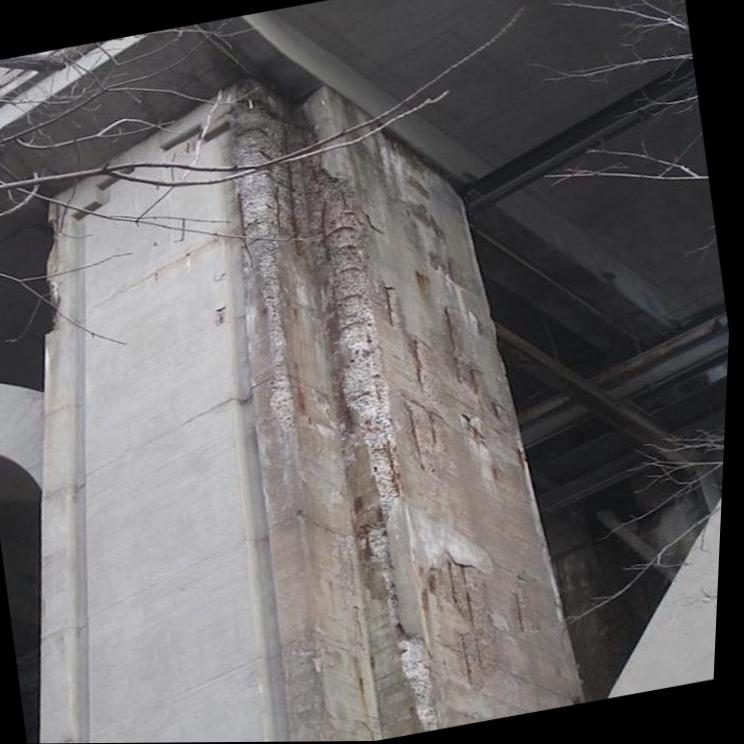crack: (362, 211, 385, 235)
damage: (233, 85, 445, 733), (428, 308, 511, 421), (436, 557, 502, 688), (408, 397, 448, 473), (517, 591, 544, 634), (465, 410, 492, 448), (411, 336, 429, 389), (387, 286, 403, 326), (361, 720, 382, 742)
